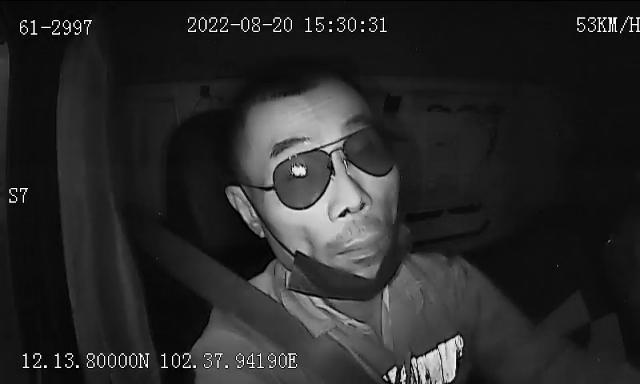SafeDriving: (280, 154, 320, 188)
Seatbelt: (144, 224, 378, 384)
